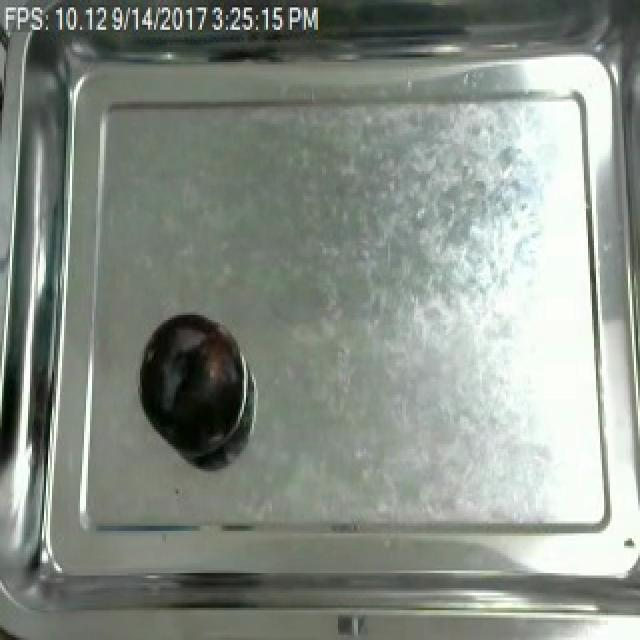Fruit: (136, 310, 244, 459)
